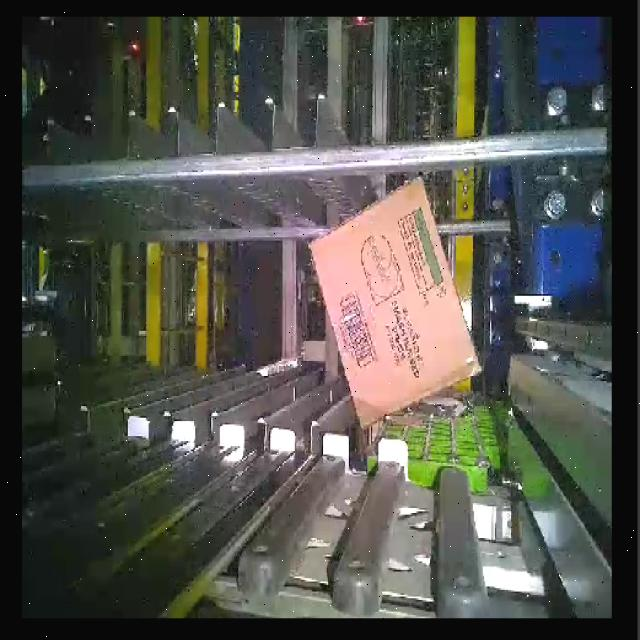box: (300, 173, 488, 429)
